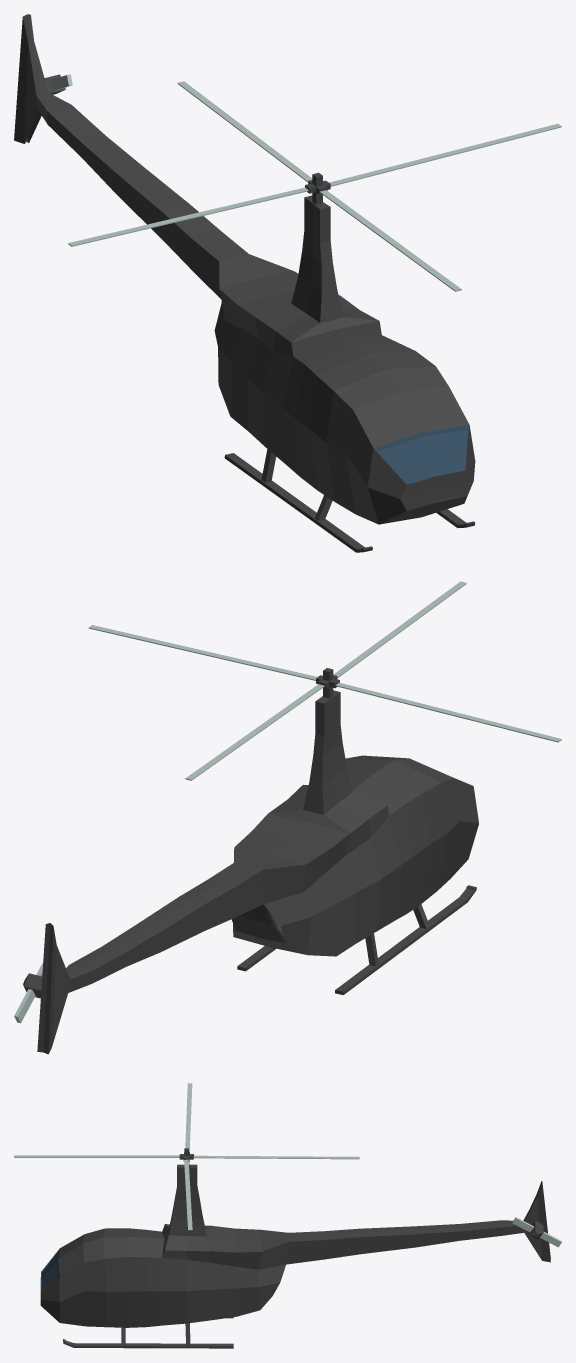
The model's file is HelitoUni1.fbx.
The picture shows the model from 3 angles, top to bottom: view 1: azimuth 30°, elevation 25°; view 2: azimuth 150°, elevation 25°; view 3: azimuth 270°, elevation 25°; orthographic projection. The views are drawn at different scales.
Visible parts, largest first — view 1: Cube, Cube.008, Cube.016, Cube.013, Cube.002, Cube.015; view 2: Cube, Cube.008, Cube.016, Cube.013, Cube.015, Cube.002; view 3: Cube, Cube.005, Cube.015, Cube.002, Cube.013, Cube.016.
Part boxes in pixels (<box>): Cube: <box>14,14,475,524</box>; Cube.008: <box>224,453,372,552</box>; Cube.016: <box>68,187,308,246</box>; Cube.013: <box>329,123,561,186</box>; Cube.002: <box>320,190,461,291</box>; Cube.015: <box>177,81,312,182</box>; Cube: <box>37,690,478,1054</box>; Cube.008: <box>335,885,476,994</box>; Cube.016: <box>335,682,561,742</box>; Cube.013: <box>88,625,317,680</box>; Cube.015: <box>185,684,324,780</box>; Cube.002: <box>333,581,466,678</box>; Cube: <box>40,1164,550,1327</box>; Cube.005: <box>63,1339,233,1348</box>; Cube.015: <box>193,1155,359,1159</box>; Cube.002: <box>14,1155,179,1157</box>; Cube.013: <box>184,1159,192,1230</box>; Cube.016: <box>185,1083,192,1151</box>.
Size of the model in its own units: 161 by 93.88 by 256.
